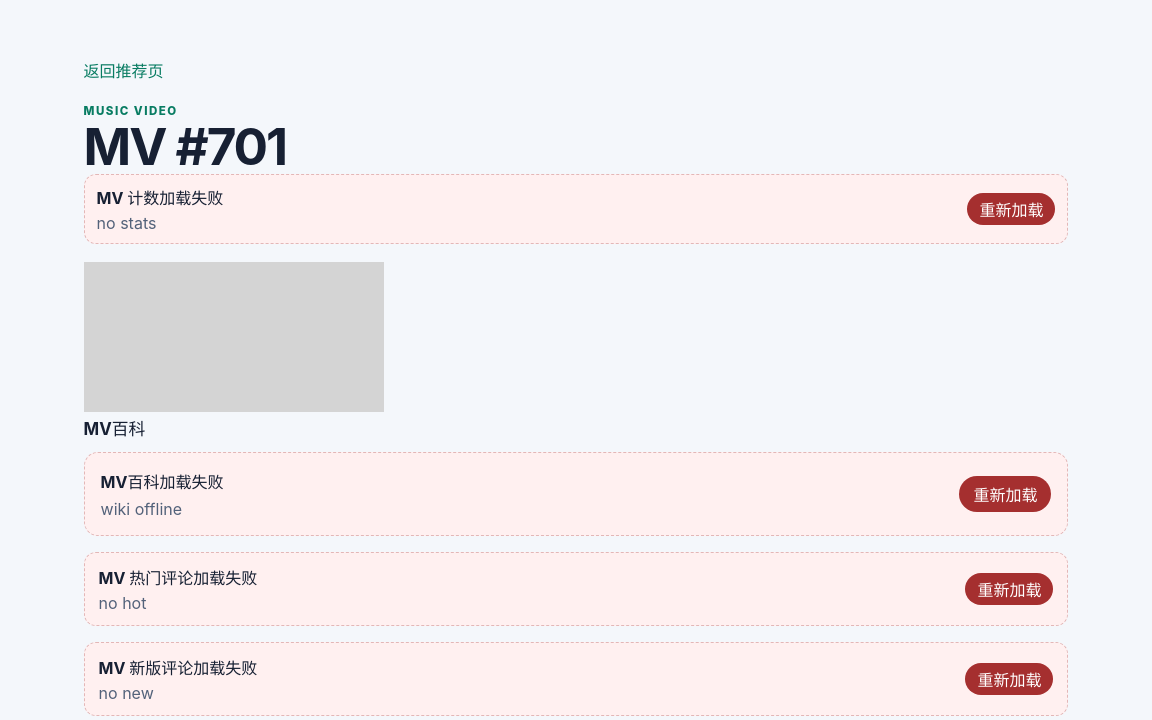
Test case: MvView › loads MV wiki without blocking playback
Click the button with test id "mv-wiki-retry" at (1005, 494), box [959,476,1051,512]
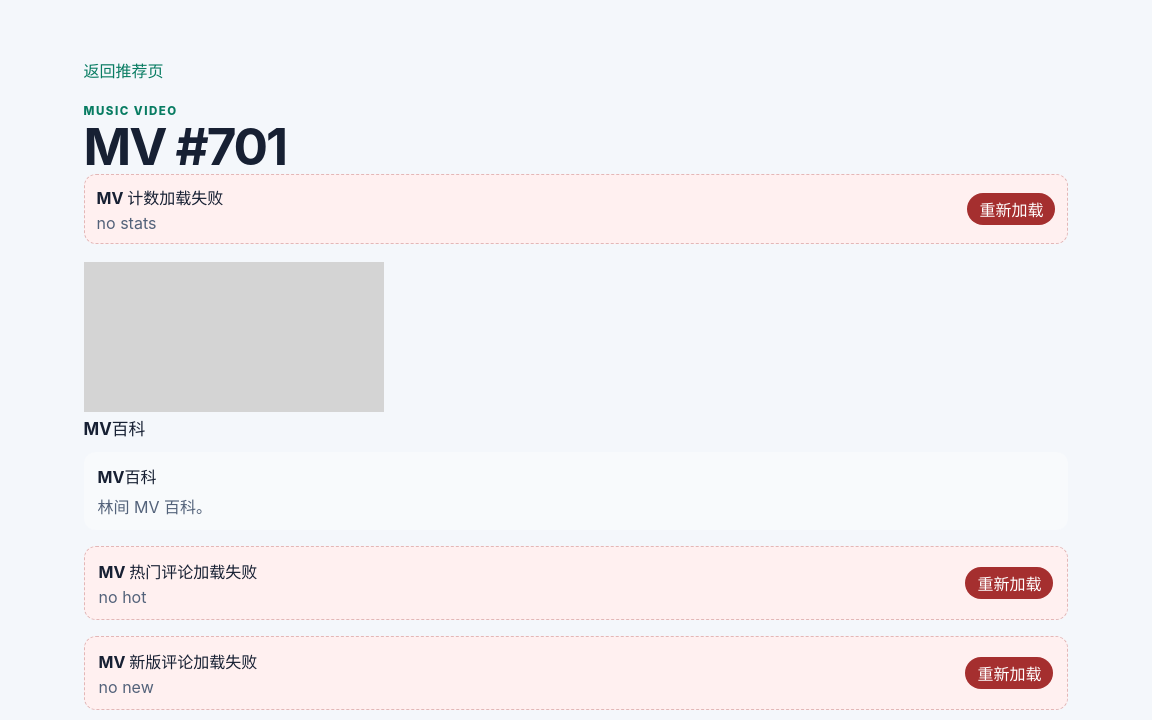
Check: the list with test id "mv-wiki" shows "林间 MV 百科。", box [98,497,212,517]
